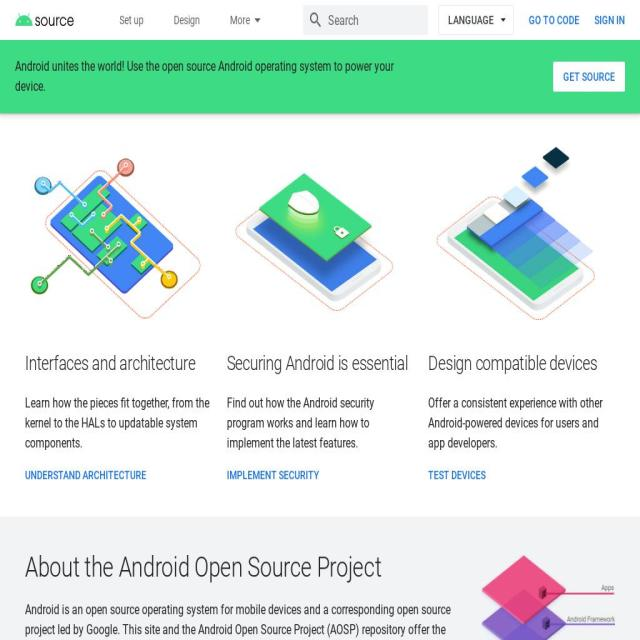button: (20, 459, 151, 490), (222, 459, 324, 490), (438, 5, 514, 35), (553, 62, 625, 92), (423, 459, 491, 490), (524, 5, 584, 35), (15, 7, 74, 33), (589, 5, 630, 35)
field: (303, 5, 428, 35)
heading: (25, 549, 464, 583), (226, 349, 414, 377), (428, 349, 616, 377), (25, 349, 212, 377)
image: (226, 147, 414, 323), (428, 147, 616, 323), (25, 147, 212, 323), (479, 549, 615, 640), (15, 7, 74, 33)
link: (230, 0, 265, 40), (174, 0, 200, 40), (119, 0, 144, 40)
text: (25, 601, 458, 640), (15, 56, 426, 96), (226, 392, 414, 453), (428, 392, 616, 453), (25, 392, 212, 453)
